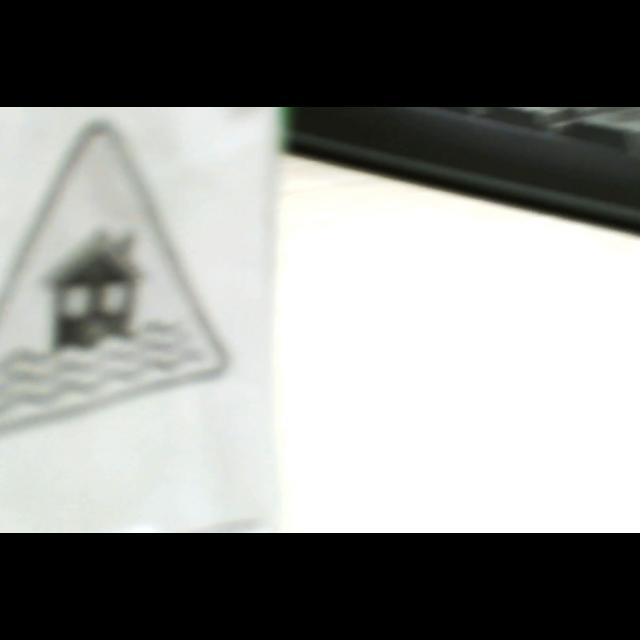Tsunami: (0, 120, 224, 429)
